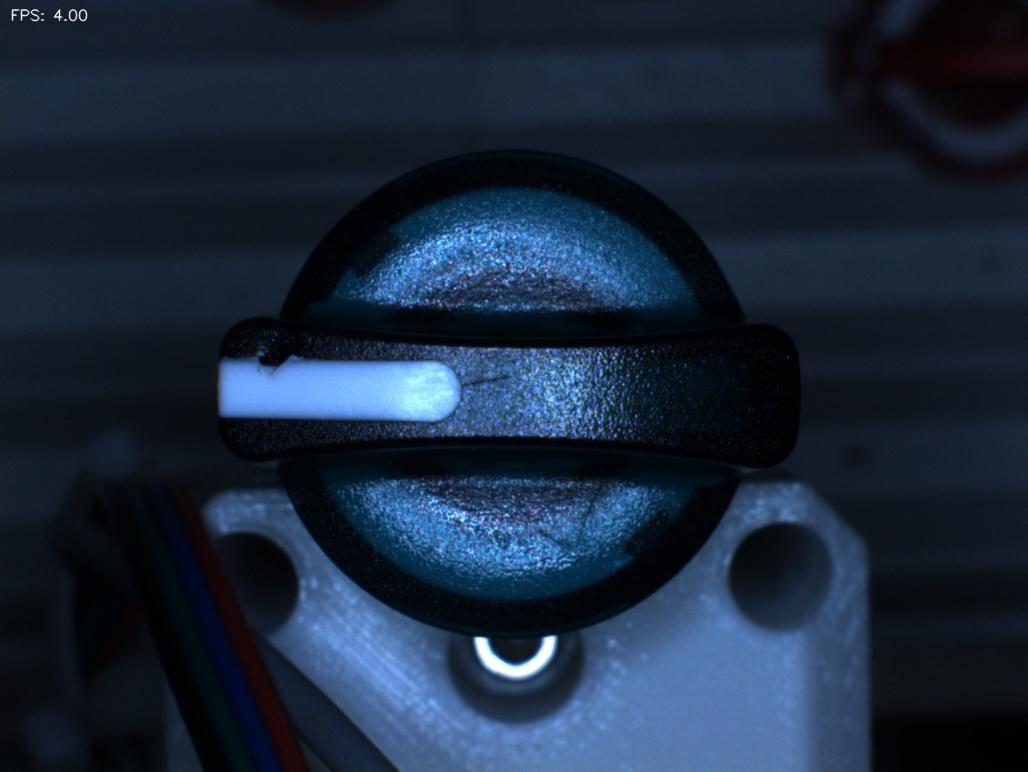Choc: (240, 316, 322, 398)
